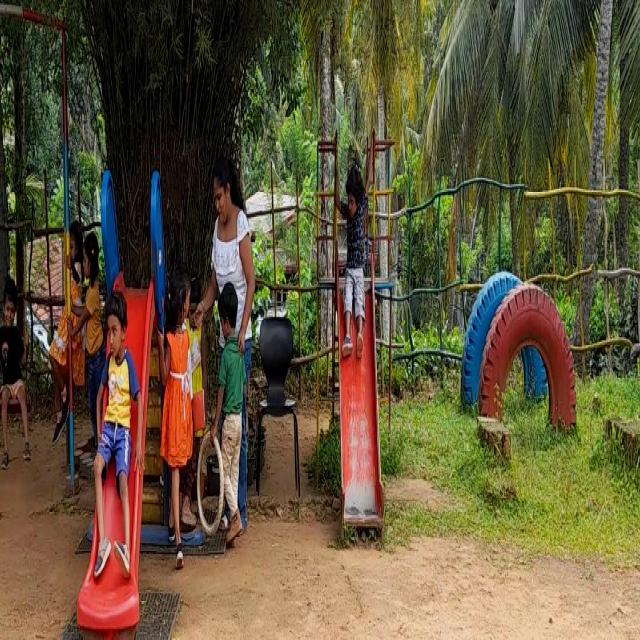child: (97, 294, 135, 571), (332, 153, 372, 347), (215, 299, 242, 531), (166, 282, 189, 547), (0, 280, 29, 468)
